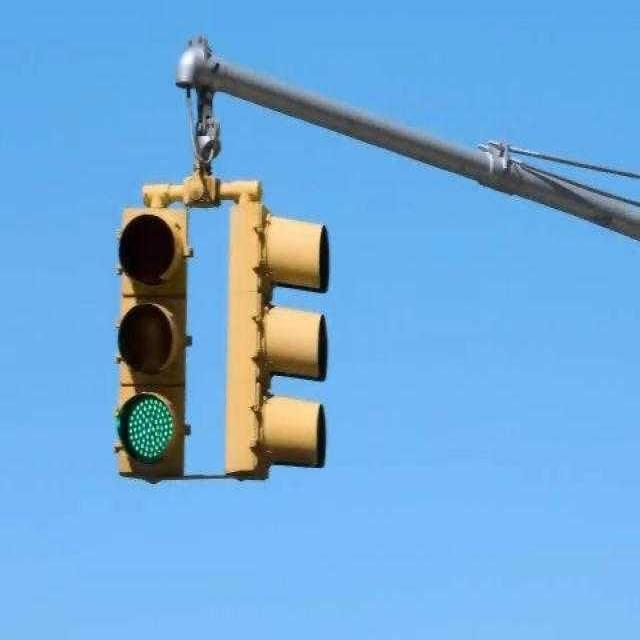Traffic Light -Green-: (109, 192, 191, 477)
